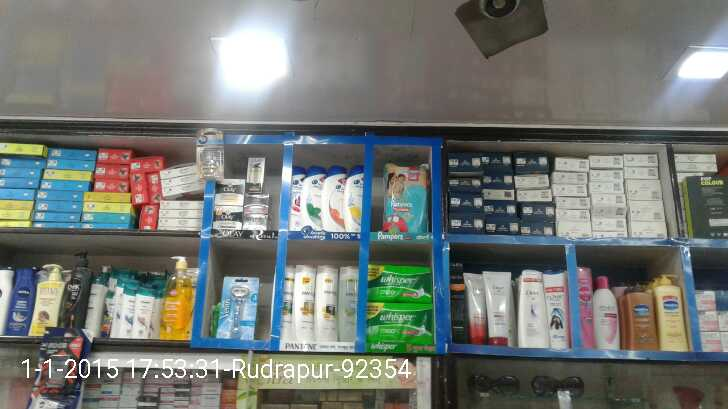venus: (221, 278, 259, 338)
